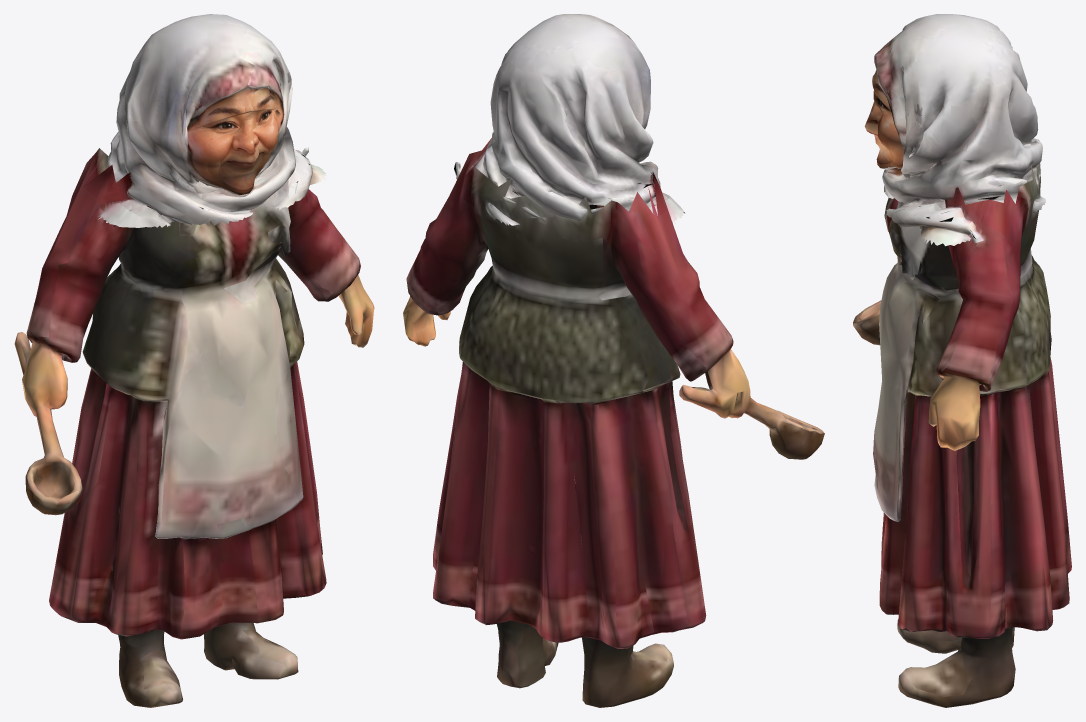
File: cook.gen.phone.glb
3 views of the same model, side by side, from view 1: azimuth 30°, elevation 25°; view 2: azimuth 150°, elevation 25°; view 3: azimuth 270°, elevation 25° (orthographic).
Parts seen in each view (by area): view 1: cook.raw; view 2: cook.raw; view 3: cook.raw.
Part boxes in pixels (box(x1,y1,x2,y2)): cook.raw: box(14, 14, 374, 707); cook.raw: box(403, 14, 824, 707); cook.raw: box(853, 14, 1071, 707).
Size of the model in its own units: 1.06 by 1.75 by 0.5323.
Materials: 1 (1 with a texture image).
